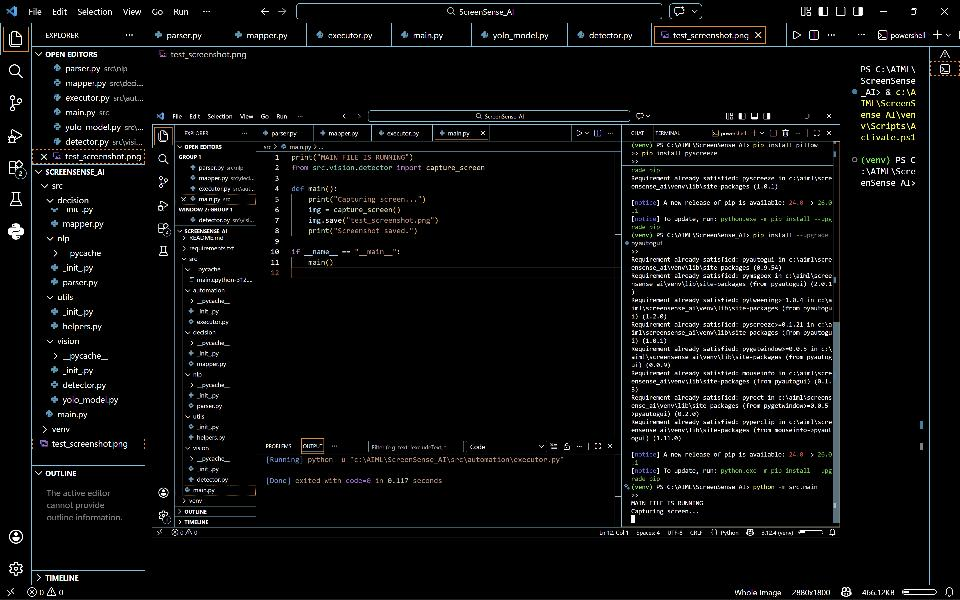close_button: (933, 2, 956, 20)
maximize_button: (901, 2, 926, 20)
minimize_button: (875, 2, 894, 21)
